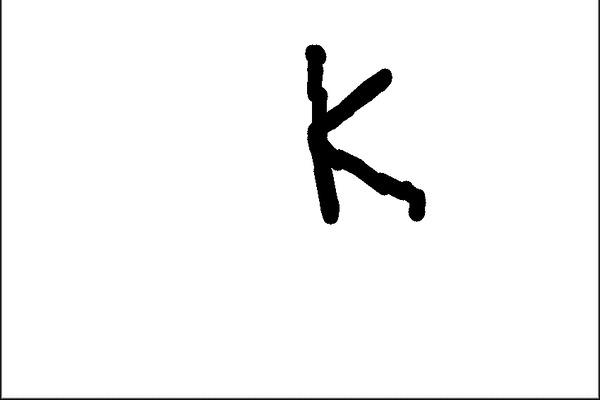K: (291, 35, 433, 230)
